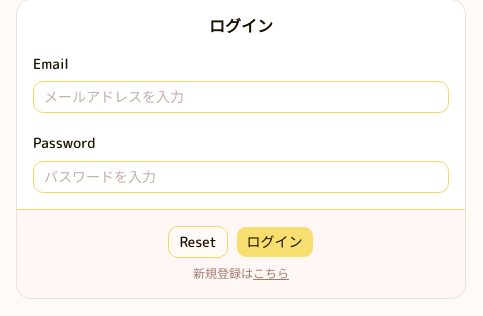
LoginForm › Resetボタンで入力内容をクリアする
The image size is (483, 316).
Type "test@example.com" into the field labelled "Email" at (241, 97), box [33, 81, 449, 113]
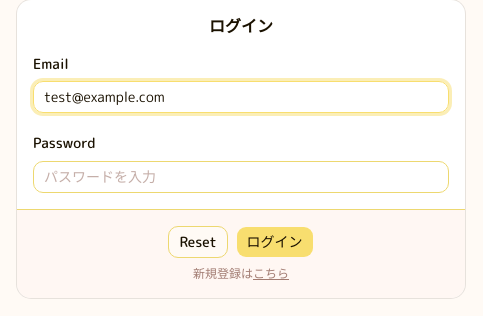
Click the button "Reset" at (198, 242), box [168, 226, 228, 258]
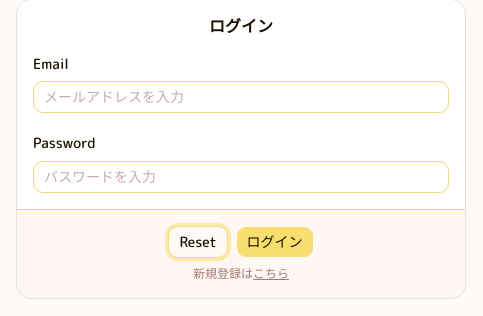
Expected: the field labelled "Email" is empty, [33, 81, 449, 113]
